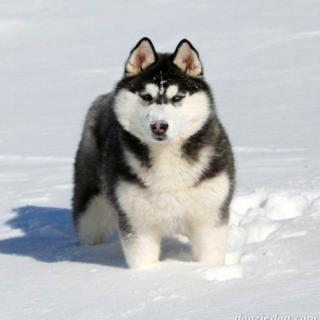dog: (109, 37, 217, 154)
nose: (148, 114, 173, 135)
